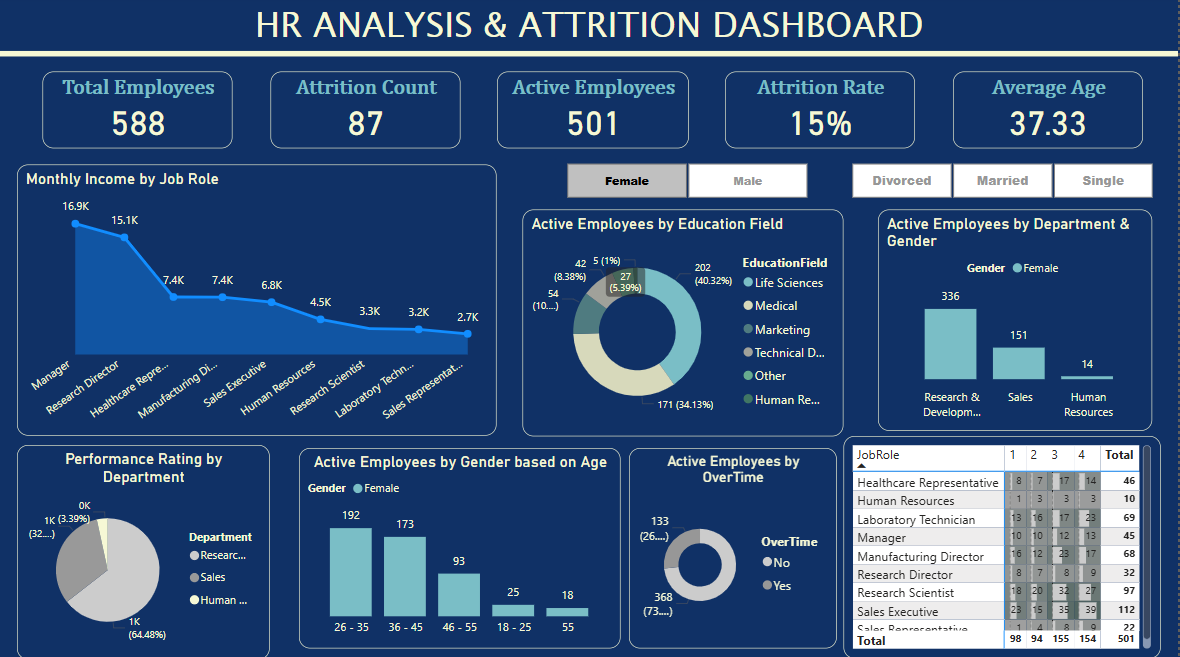

The dashboard page shown, as its layout file describes it:
{"tool":"powerbi","page":{"name":"Page 1","canvas":[1280,720],"ordinal":0},"visuals":[{"type":"shape","box":[0,46.2,1280,36.2],"z":0},{"type":"card","title":"Total Employees","fields":{"Values":["HR-Employee-Attrition.Total Employees"]},"box":[47.7,82.4,206,83.2],"z":1000},{"type":"card","title":"Attrition Count","fields":{"Values":["Sum(HR-Employee-Attrition.Attrition Count)"]},"box":[293.8,82.4,206,83.2],"z":2000},{"type":"card","title":"Attrition Rate","fields":{"Values":["HR-Employee-Attrition.Attrition Rate"]},"box":[788,82.4,206,83.2],"z":3000},{"type":"card","title":"Active Employees","fields":{"Values":["HR-Employee-Attrition.Active Employees"]},"box":[539.9,82.4,207.9,83.2],"z":4000},{"type":"card","title":"Average Age","fields":{"Values":["Avg(HR-Employee-Attrition.Age)"]},"box":[1034.1,82.4,206,83.2],"z":5000},{"type":"areaChart","title":"Monthly Income by Job Role","fields":{"Category":["HR-Employee-Attrition.JobRole"],"Y":["Avg(HR-Employee-Attrition.MonthlyIncome)"]},"box":[20,184,520,294],"z":6000},{"type":"donutChart","title":"Active Employees by Education Field","fields":{"Category":["HR-Employee-Attrition.EducationField"],"Y":["HR-Employee-Attrition.Active Employees"]},"box":[568,232,348,246],"z":7000},{"type":"clusteredColumnChart","title":"Active Employees by Department & Gender","fields":{"Y":["HR-Employee-Attrition.Active Employees"],"Category":["HR-Employee-Attrition.Department"],"Series":["HR-Employee-Attrition.Gender"]},"box":[952.5,232.5,297.5,240],"z":8000},{"type":"pieChart","title":"Performance Rating by Department","fields":{"Y":["Sum(HR-Employee-Attrition.PerformanceRating)"],"Category":["HR-Employee-Attrition.Department"]},"box":[20,487.5,273.8,232.5],"z":9000},{"type":"clusteredColumnChart","title":"Active Employees by Gender based on Age ","fields":{"Category":["HR-Employee-Attrition (3).AgeGroup"],"Y":["HR-Employee-Attrition.Active Employees"],"Series":["HR-Employee-Attrition (3).Gender"]},"box":[325,491.2,348.8,217.5],"z":10000},{"type":"slicer","fields":{"Values":["HR-Employee-Attrition.Gender"]},"box":[590,175,310,51.2],"z":11000},{"type":"textbox","box":[0,0,1280,78],"z":12000},{"type":"pivotTable","fields":{"Rows":["HR-Employee-Attrition.JobRole"],"Values":["HR-Employee-Attrition.Active Employees"],"Columns":["HR-Employee-Attrition.JobSatisfaction"]},"box":[915,478.8,343.8,241.2],"z":13000},{"type":"donutChart","fields":{"Y":["HR-Employee-Attrition.Active Employees"],"Category":["HR-Employee-Attrition (3).OverTime"]},"box":[682.5,491.2,225,217.5],"z":14000},{"type":"slicer","fields":{"Values":["HR-Employee-Attrition.MaritalStatus"]},"box":[898.9,175.6,375.6,51.1],"z":15000}]}

Visuals, with their boxes in screenshot pixels (x1, y1, x2, y2), scaled from the page's 1280x720 canvas onto the 1180x657 screenshot:
shape: crop(0, 42, 1179, 75)
"Total Employees" card: crop(44, 75, 234, 151)
"Attrition Count" card: crop(271, 75, 461, 151)
"Attrition Rate" card: crop(726, 75, 916, 151)
"Active Employees" card: crop(498, 75, 689, 151)
"Average Age" card: crop(953, 75, 1143, 151)
"Monthly Income by Job Role" areaChart: crop(18, 168, 498, 436)
"Active Employees by Education Field" donutChart: crop(524, 212, 844, 436)
"Active Employees by Department & Gender" clusteredColumnChart: crop(878, 212, 1152, 431)
"Performance Rating by Department" pieChart: crop(18, 445, 271, 656)
"Active Employees by Gender based on Age " clusteredColumnChart: crop(300, 448, 621, 647)
slicer - HR-Employee-Attrition.Gender: crop(544, 160, 830, 206)
textbox: crop(0, 0, 1179, 71)
pivotTable - HR-Employee-Attrition.JobRole x HR-Employee-Attrition.Active Employees: crop(844, 437, 1160, 656)
donutChart - HR-Employee-Attrition.Active Employees x HR-Employee-Attrition (3).OverTime: crop(629, 448, 837, 647)
slicer - HR-Employee-Attrition.MaritalStatus: crop(829, 160, 1175, 207)
